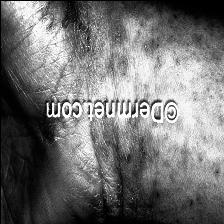Toxin: (29, 105, 62, 146), (118, 136, 142, 168)
